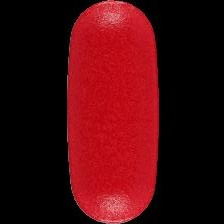50844-428: (0, 0, 224, 224)
